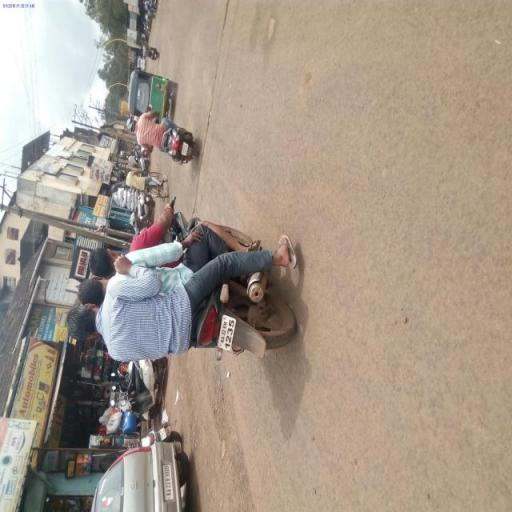tripple riding: (54, 192, 184, 382)
